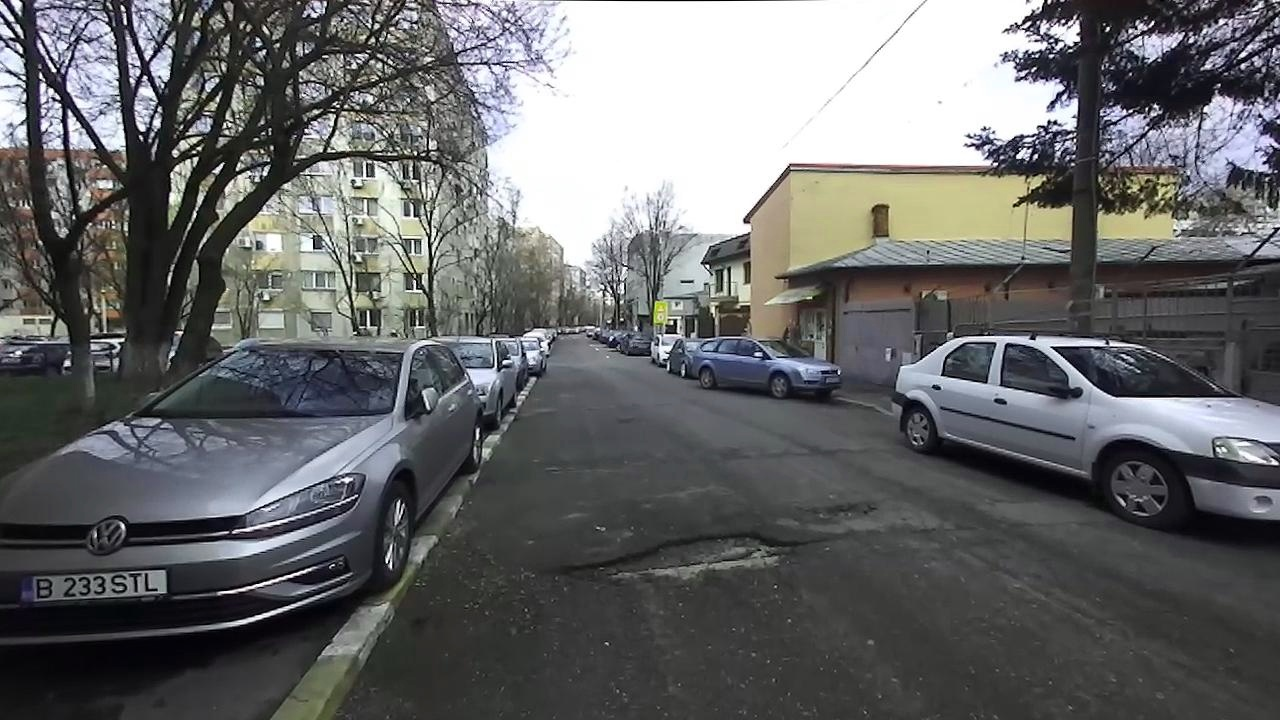pothole: (538, 527, 842, 585), (796, 491, 881, 520)
